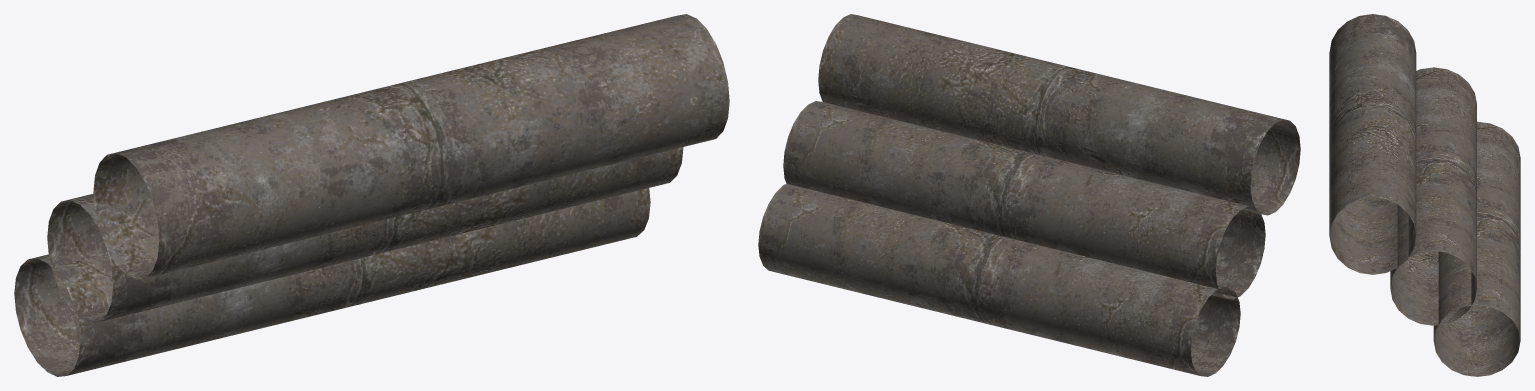
File: TrippleTube.fbx
3 views of the same model, side by side, from view 1: azimuth 30°, elevation 25°; view 2: azimuth 150°, elevation 25°; view 3: azimuth 270°, elevation 25° (orthographic). The views are drawn at different scales.
Visible parts, largest first — view 1: Trim_Connector_Straight_tripple; view 2: Trim_Connector_Straight_tripple; view 3: Trim_Connector_Straight_tripple.
Boxes of the visible parts, x1,y1,x2,y2 form: Trim_Connector_Straight_tripple: (14,14,729,376); Trim_Connector_Straight_tripple: (758,14,1300,376); Trim_Connector_Straight_tripple: (1329,14,1520,376).
Bounding box in the file's own units: 400 × 182 × 176.
